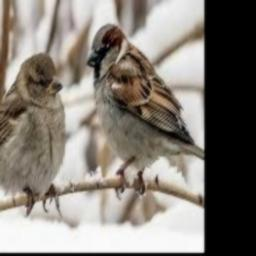Sparrow: (87, 23, 204, 200), (0, 52, 66, 219)
